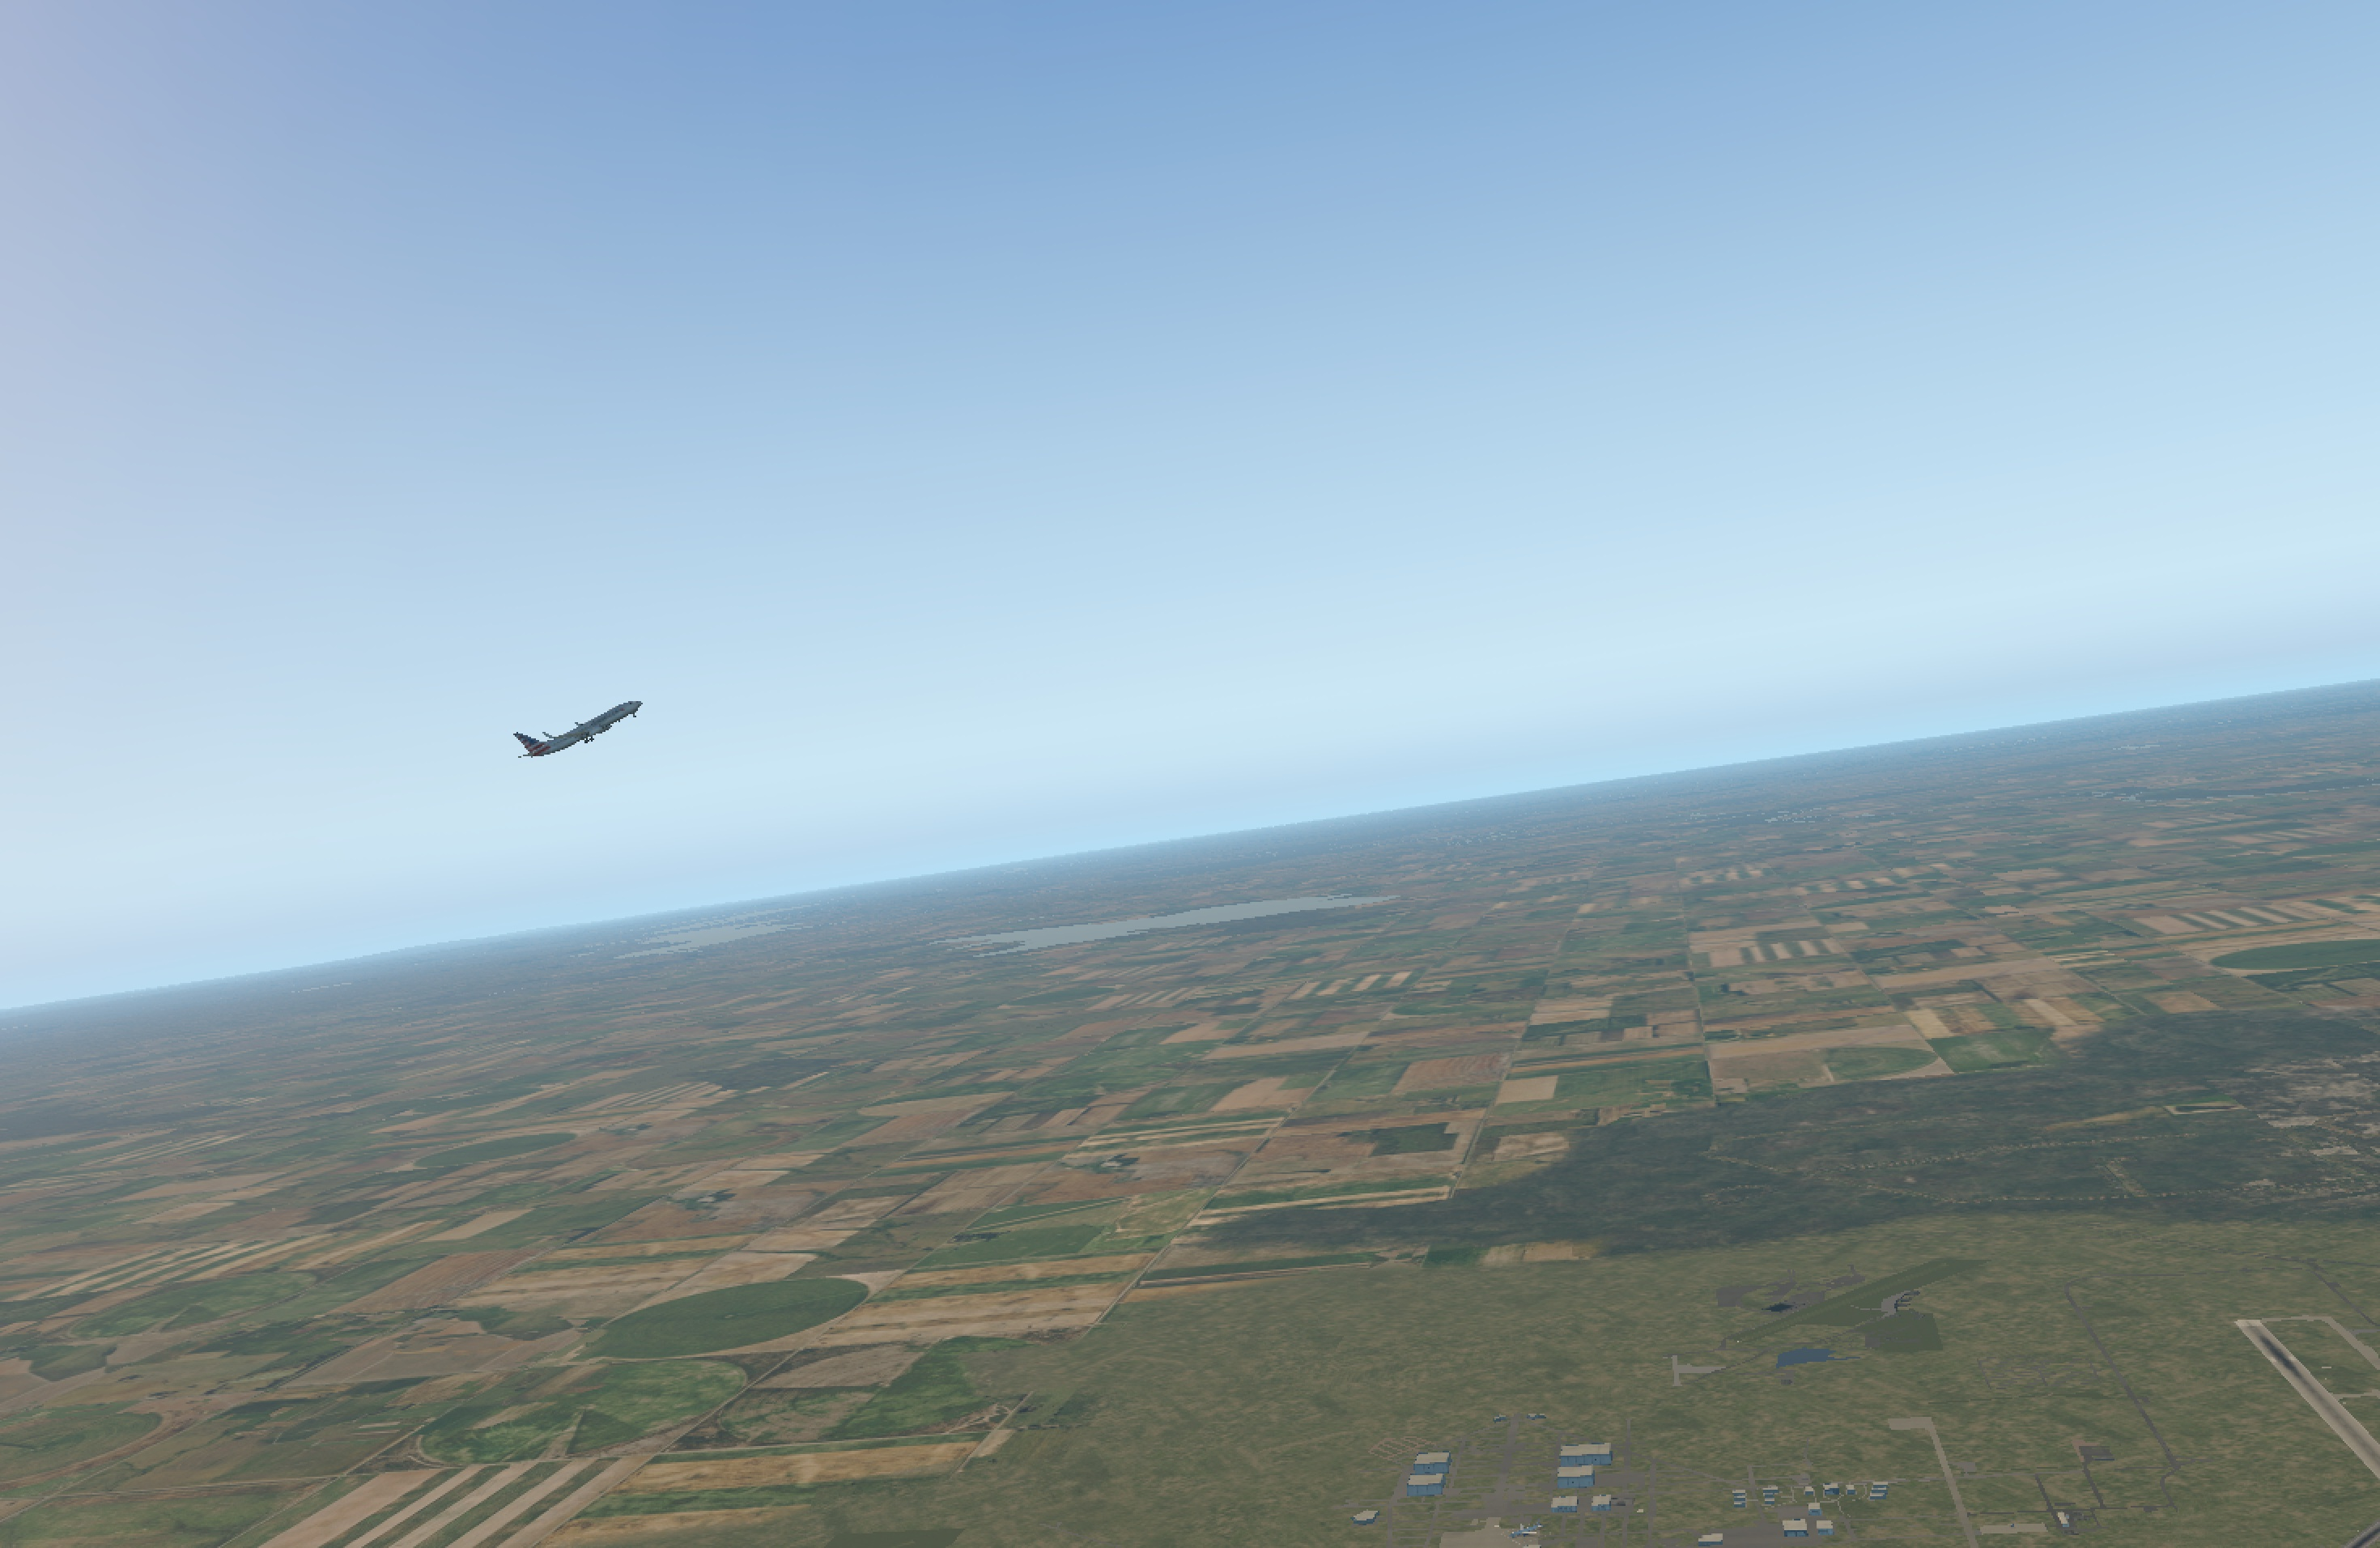aircraft: (527, 708, 652, 753)
